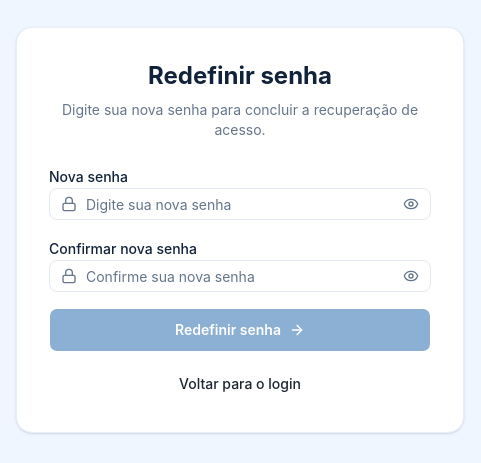
Test: PasswordReset › mostra erro quando senha tem menos de 8 caracteres
Type "123456" into the password field with placeholder "Digite sua nova senha" at x=240, y=204, box [49, 188, 431, 220]
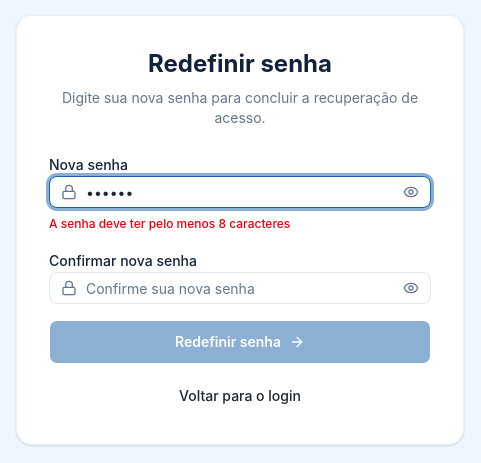
Result: the text "A senha deve ter pelo menos 8 caracteres" is shown at [49, 216, 290, 231]
